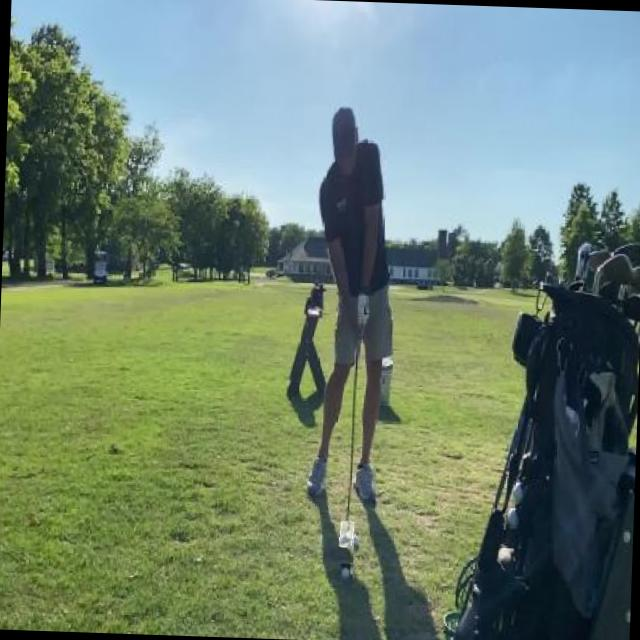club head: (339, 520, 354, 548)
